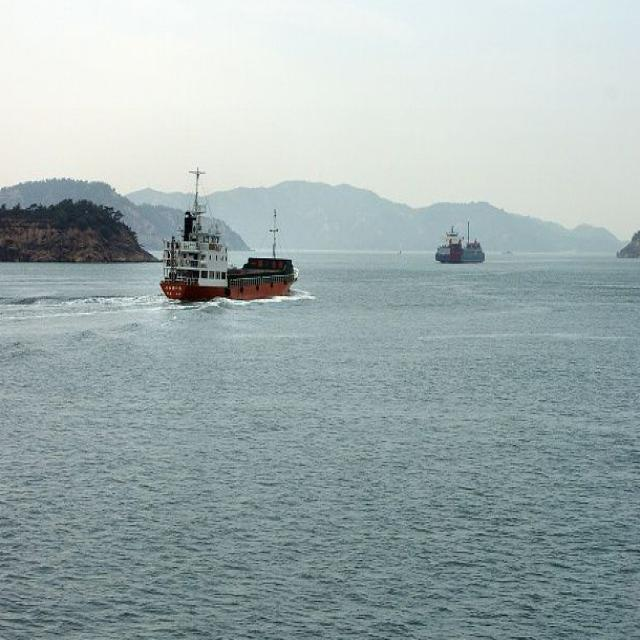cargoship: (160, 182, 299, 303), (435, 221, 485, 264)
